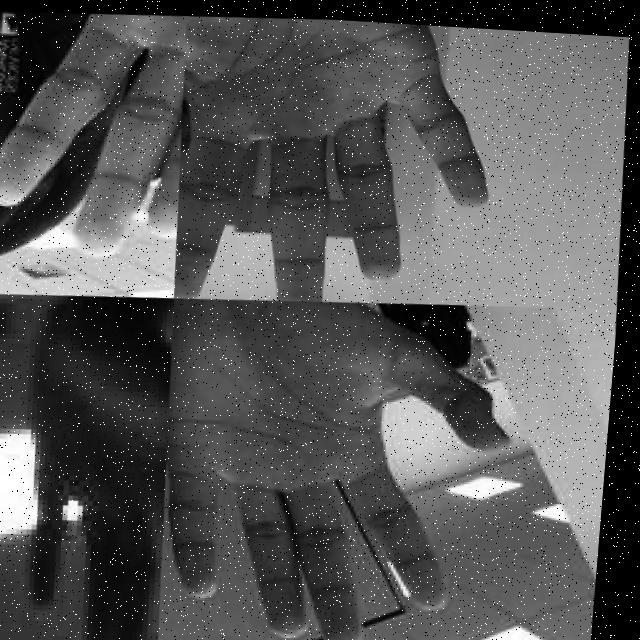hand: (156, 283, 534, 640), (168, 9, 504, 309), (15, 298, 190, 640), (0, 4, 195, 266)
